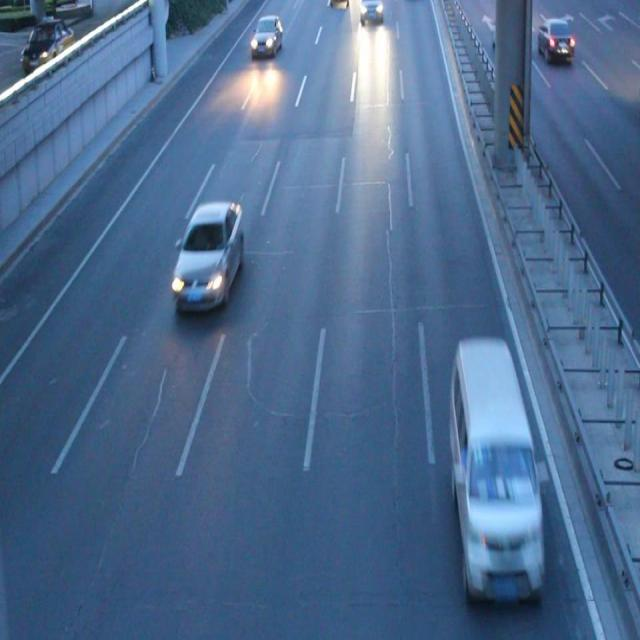car: (174, 204, 242, 306), (536, 20, 574, 58), (252, 19, 282, 53), (493, 8, 520, 43), (360, 1, 383, 22)
truck: (450, 340, 543, 581)
